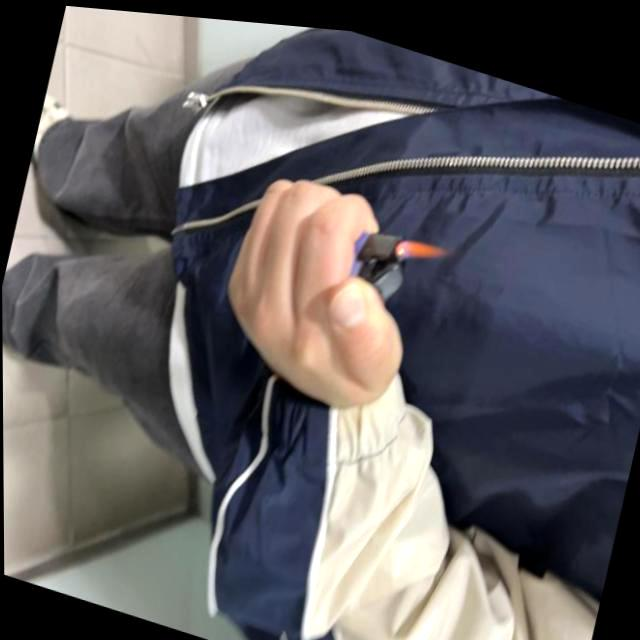fire: (394, 226, 454, 270)
